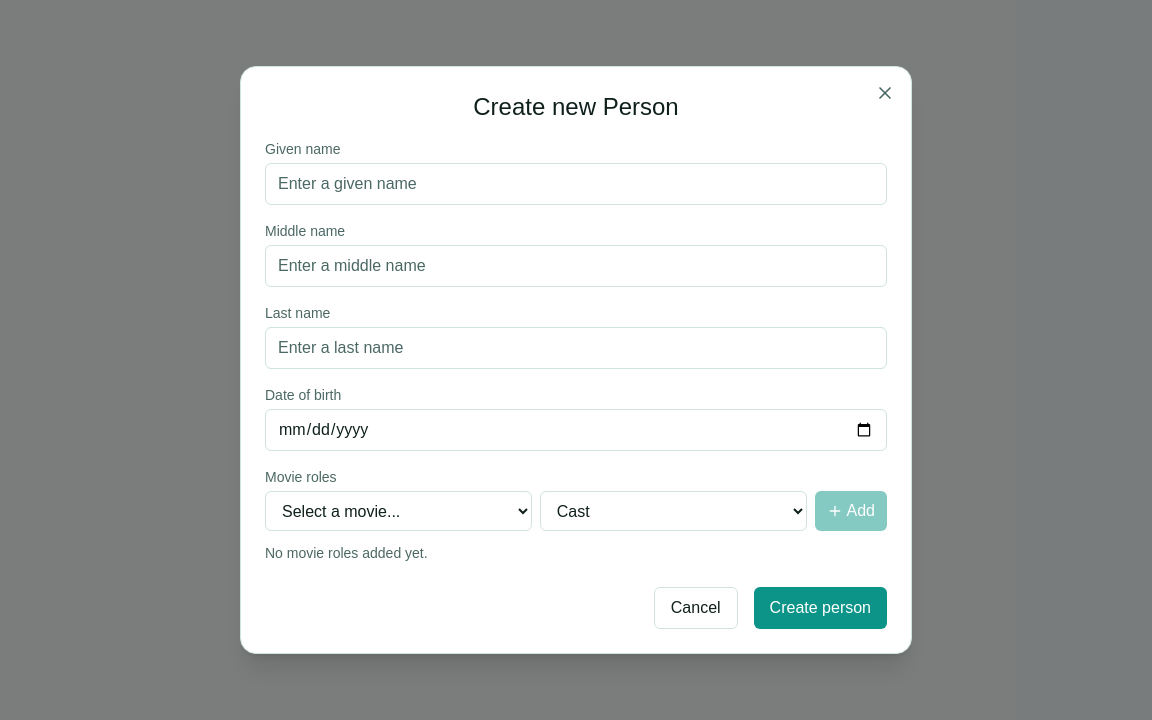
PersonFullForm › shows returned issues and keeps the dialog open on failure
The image size is (1152, 720).
Click the button "Create person" at (820, 608), box [754, 587, 887, 629]
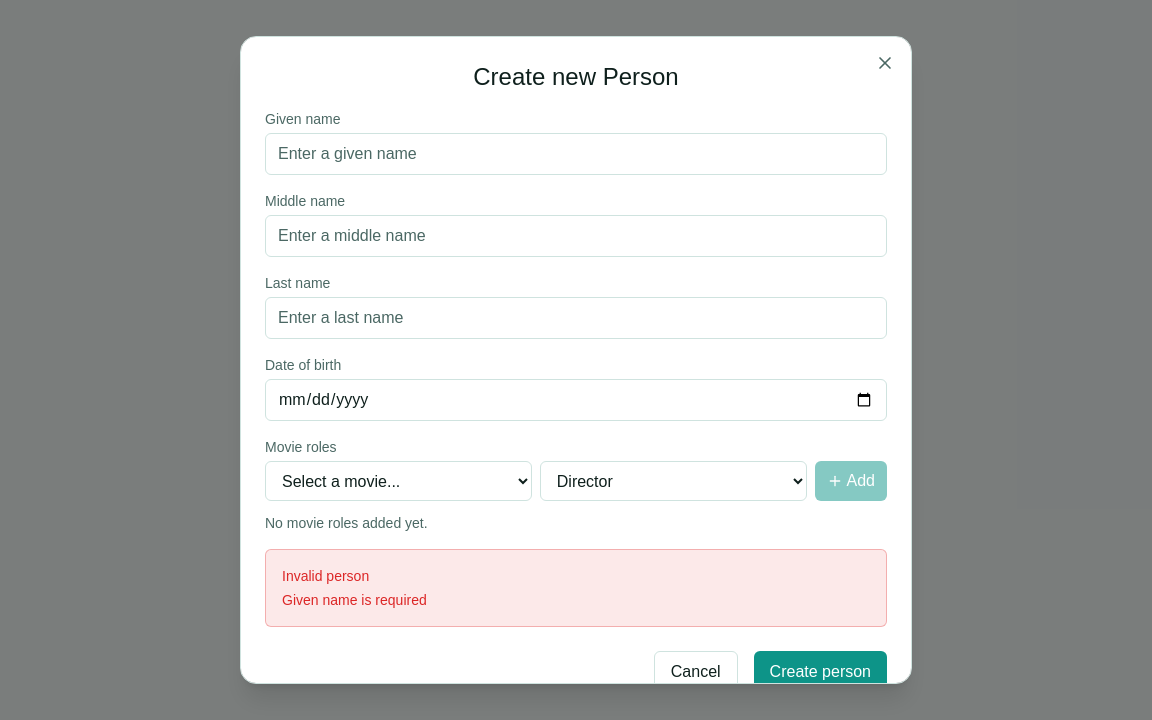
Check: the text "Given name is required" is shown, box [282, 592, 427, 608]
Check: the text "Invalid person" is shown, box [282, 568, 369, 584]
